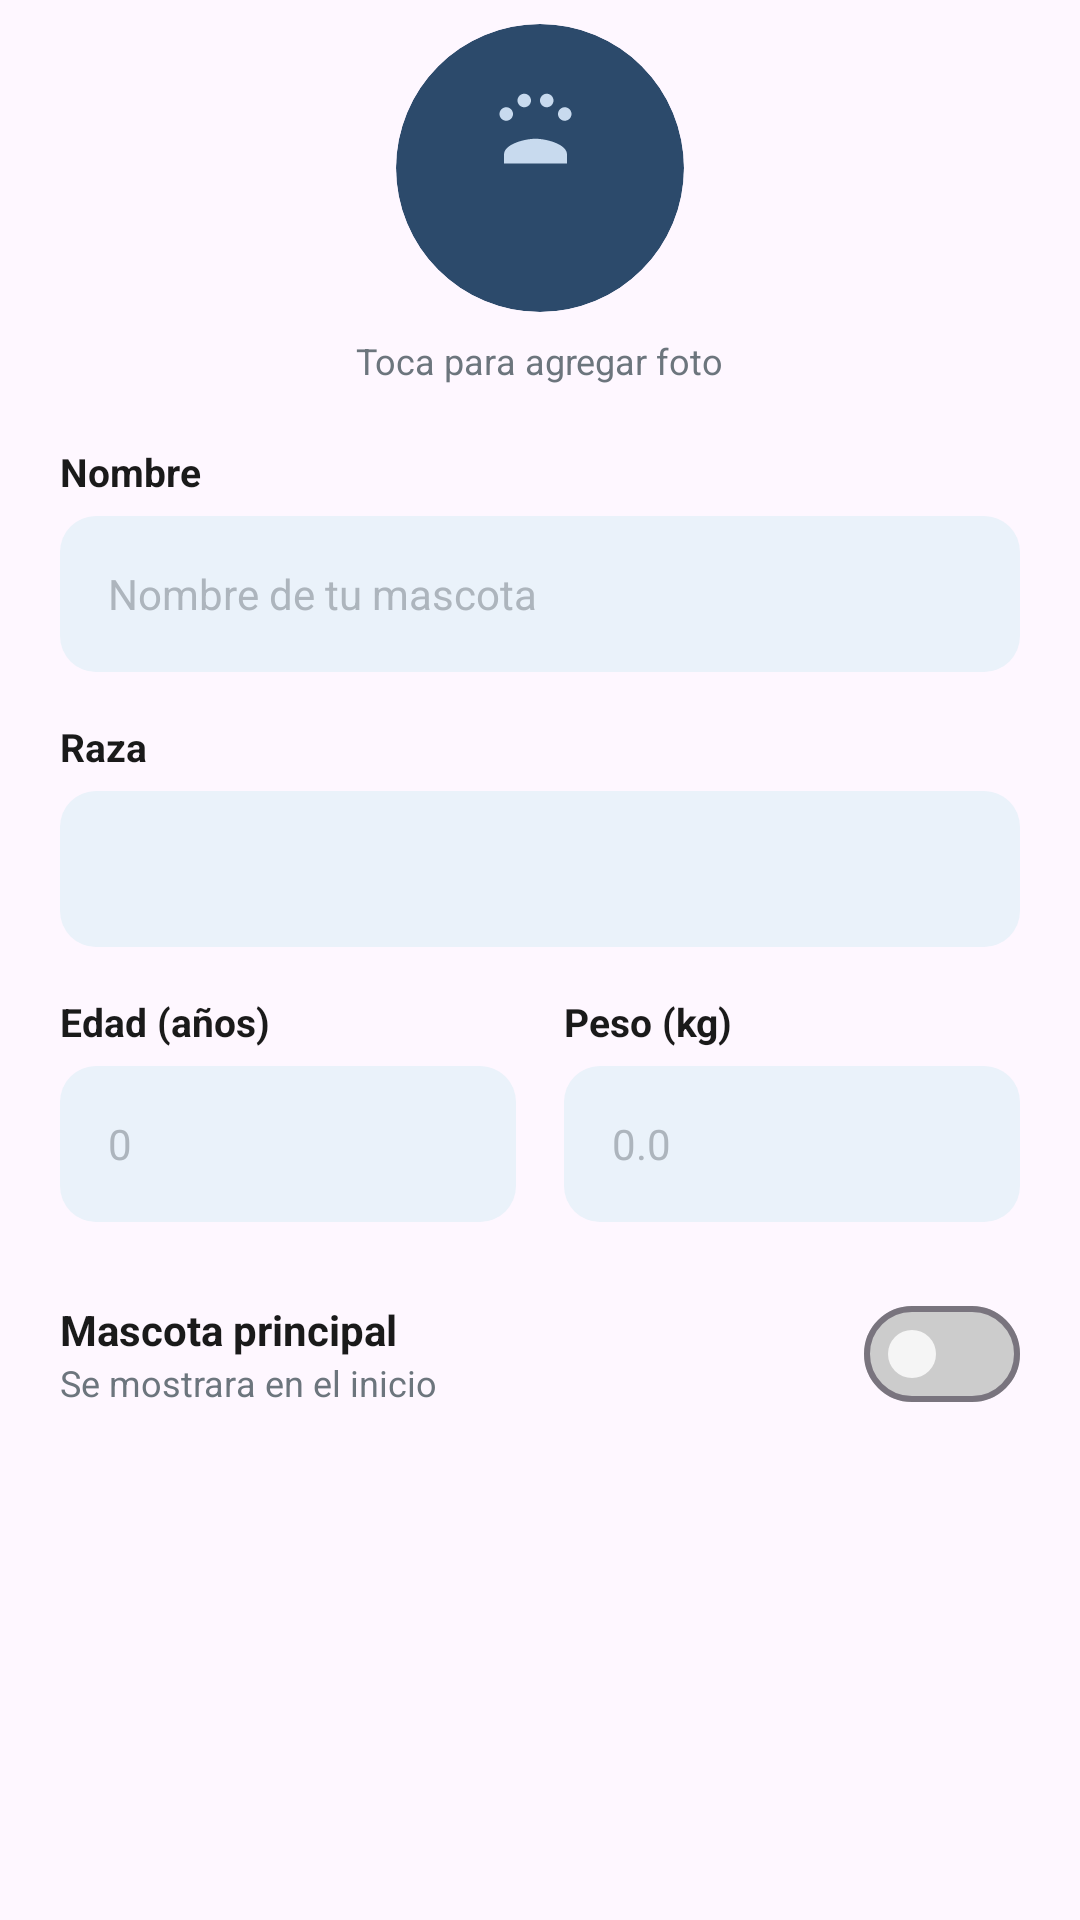

Where icons sit on this 1080*1920 app screen, as detection(x1, y1, x2, y2):
paw: detection(499, 93, 572, 164)
